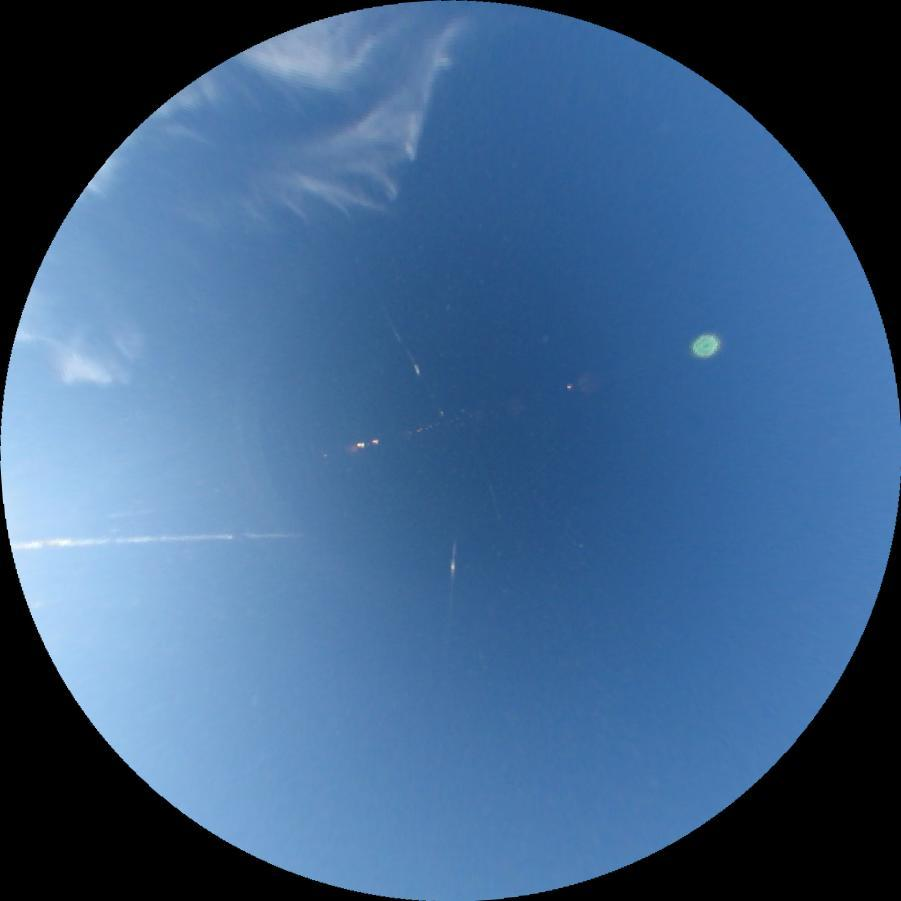parasite: (13, 525, 301, 551), (385, 313, 447, 419), (448, 529, 456, 626)
